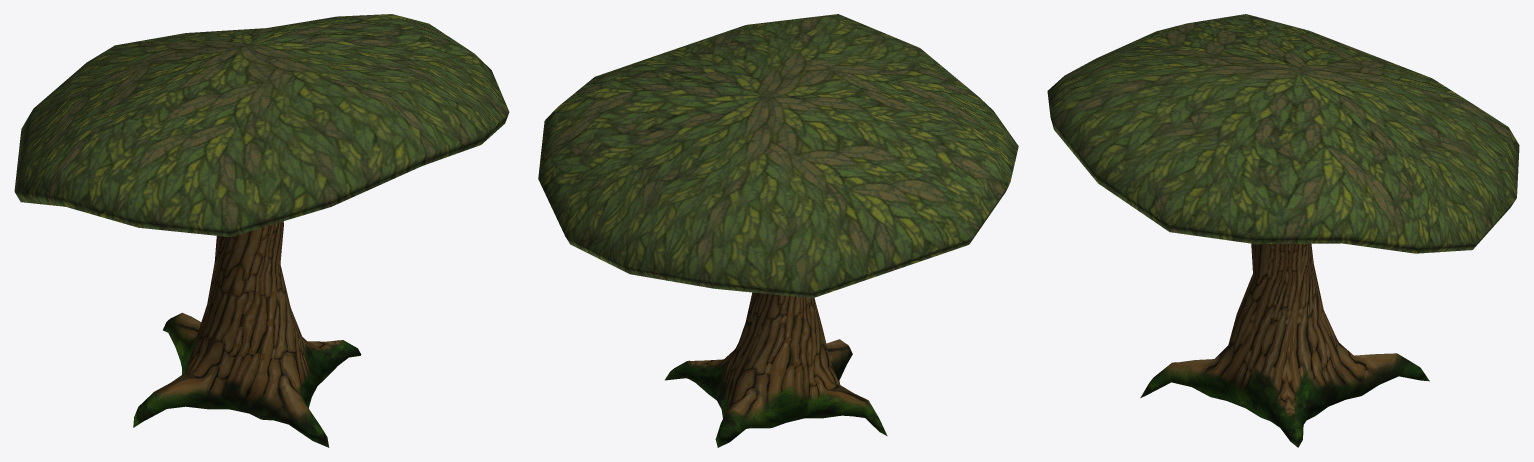
File: TwistedOakShape.dae
3 views of the same model, side by side, from view 1: azimuth 30°, elevation 25°; view 2: azimuth 150°, elevation 25°; view 3: azimuth 270°, elevation 25° (orthographic). The views are drawn at different scales.
Visible parts, largest first — view 1: TwistedOak; view 2: TwistedOak; view 3: TwistedOak.
Boxes of the visible parts, <box> form: TwistedOak: <box>14,14,509,447</box>; TwistedOak: <box>538,14,1018,447</box>; TwistedOak: <box>1047,14,1519,447</box>.
Size of the model in its own units: 22.18 by 16.63 by 20.93.
